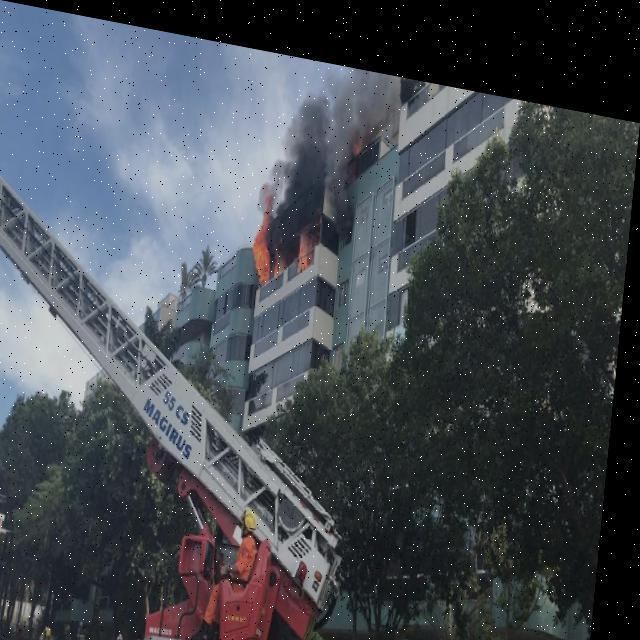Fire: (254, 184, 288, 264)
